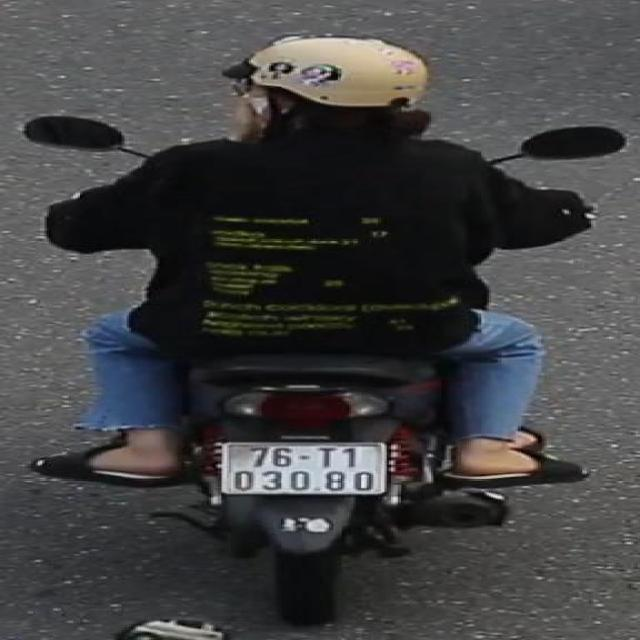LP: (213, 439, 398, 501)
helmet: (218, 29, 442, 148)
